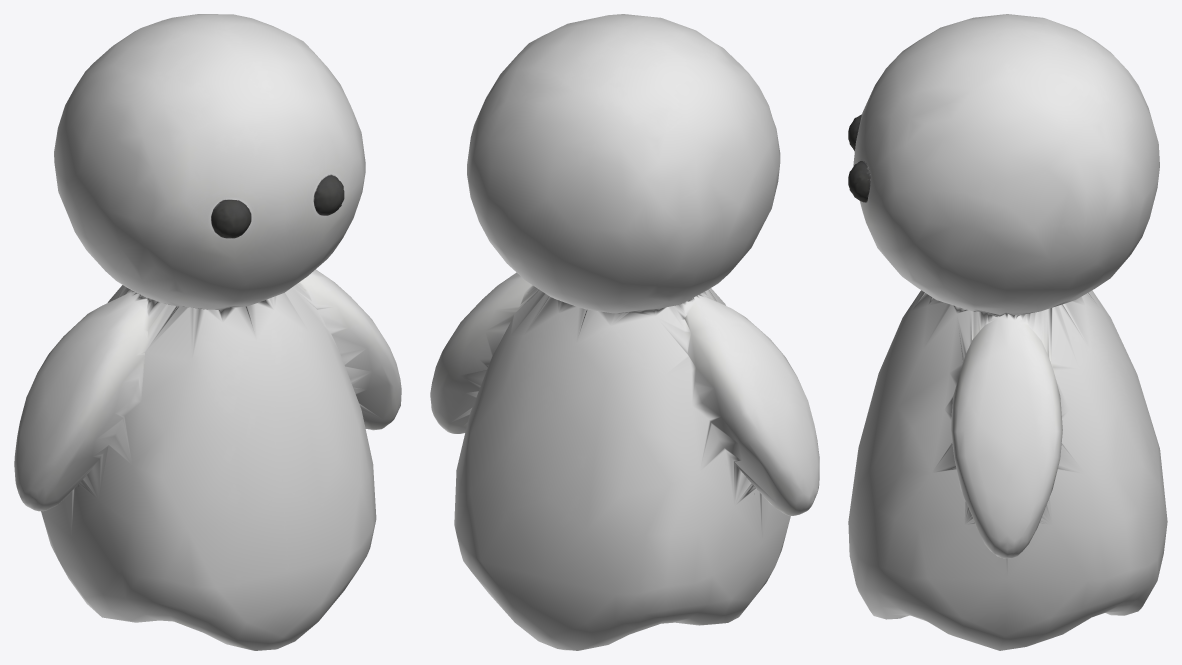
File: selected.glb
The picture shows the model from 3 angles, left to right: view 1: azimuth 30°, elevation 25°; view 2: azimuth 150°, elevation 25°; view 3: azimuth 270°, elevation 25°; orthographic projection.
Parts seen in each view (by area): view 1: tripo_node_f4822184-e14d-496b-a316-842706343ad9; view 2: tripo_node_f4822184-e14d-496b-a316-842706343ad9; view 3: tripo_node_f4822184-e14d-496b-a316-842706343ad9.
Part boxes in pixels (left/top/right/bottom): tripo_node_f4822184-e14d-496b-a316-842706343ad9: left=14, top=14, right=401, bottom=650; tripo_node_f4822184-e14d-496b-a316-842706343ad9: left=430, top=14, right=819, bottom=650; tripo_node_f4822184-e14d-496b-a316-842706343ad9: left=848, top=14, right=1167, bottom=650.
Size of the model in its own units: 0.6777 by 0.998 by 0.4941.
1 material, 1 textured.
